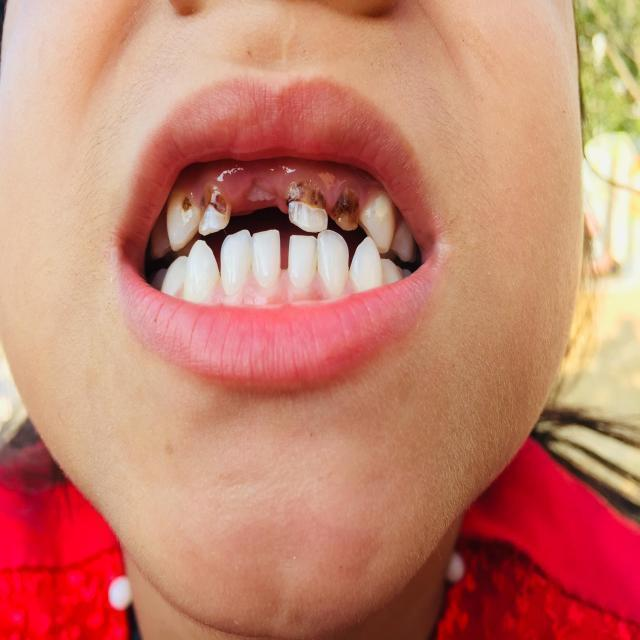caries: (286, 171, 334, 235), (160, 182, 203, 251), (200, 172, 235, 236), (333, 177, 367, 236)
